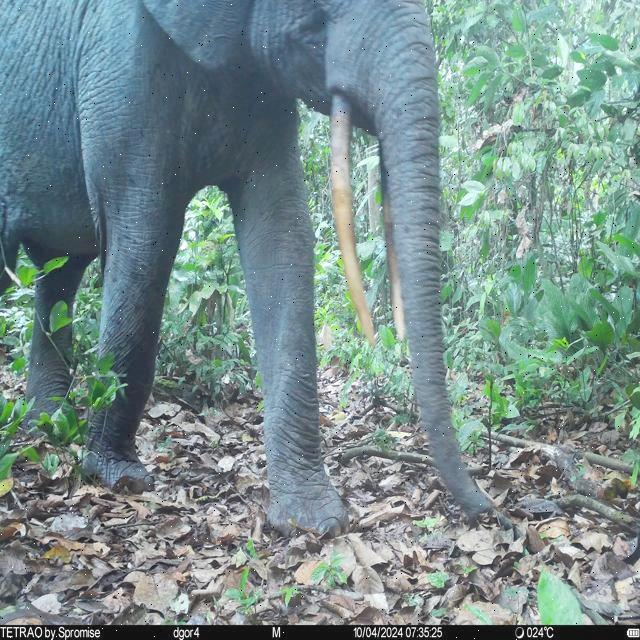ear: (143, 0, 248, 67)
elephant: (1, 0, 500, 542)
tusk: (329, 90, 378, 346), (378, 154, 404, 341)
